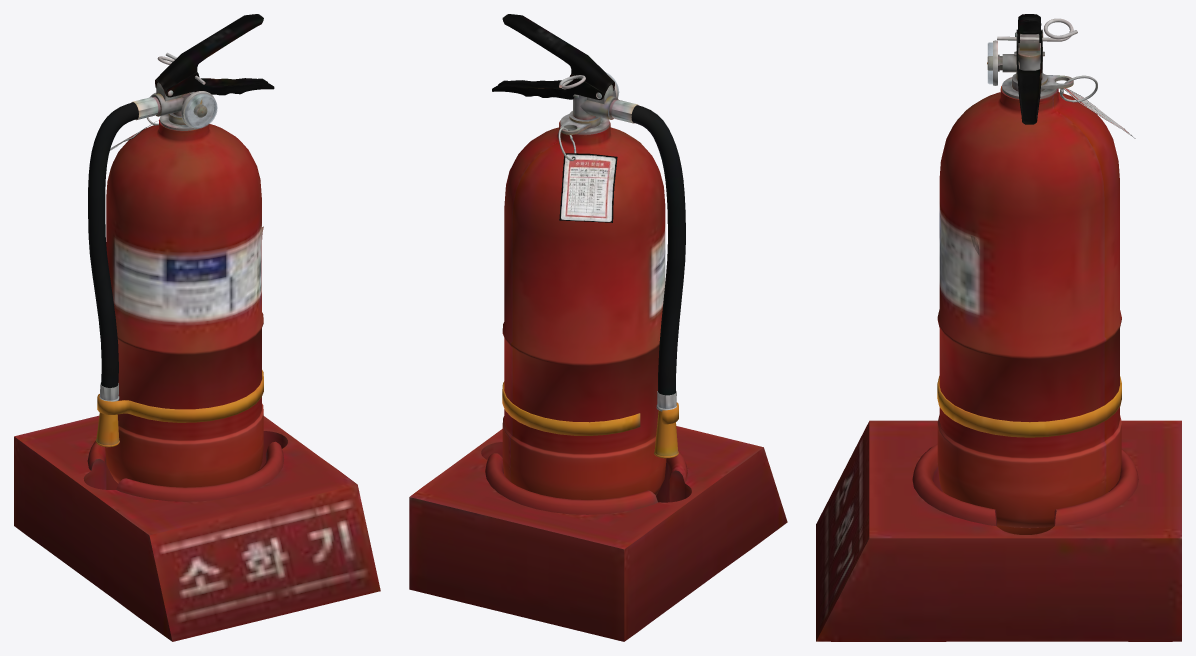
The model's file is fire_extinguisher.glb.
The picture shows the model from 3 angles, left to right: view 1: azimuth 30°, elevation 25°; view 2: azimuth 150°, elevation 25°; view 3: azimuth 270°, elevation 25°; orthographic projection. The views are drawn at different scales.
Parts seen in each view (by area): view 1: korean_fire_extinguisher_01; view 2: korean_fire_extinguisher_01; view 3: korean_fire_extinguisher_01.
Part boxes in pixels (left/top/right/bottom): korean_fire_extinguisher_01: left=14, top=14, right=380, bottom=641; korean_fire_extinguisher_01: left=409, top=14, right=787, bottom=641; korean_fire_extinguisher_01: left=816, top=14, right=1181, bottom=641.
Bounding box in the file's own units: 0.2799 × 0.6593 × 0.3674.
3 materials, 3 textured.
